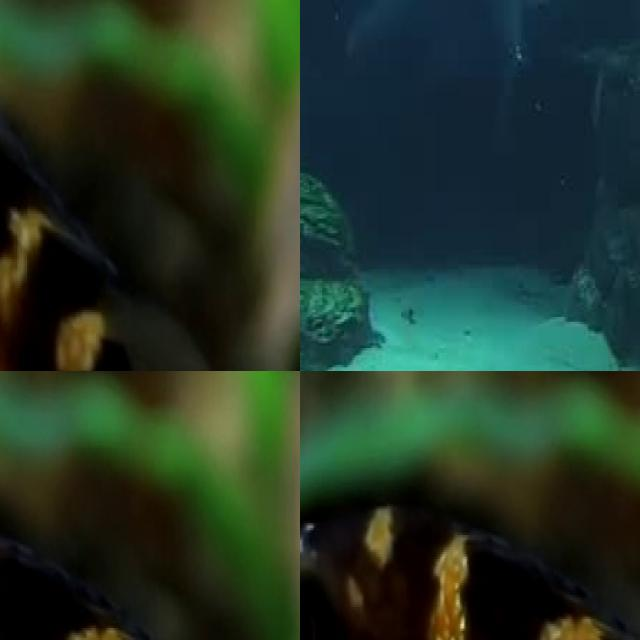fish: (0, 0, 300, 371), (0, 496, 300, 640)
